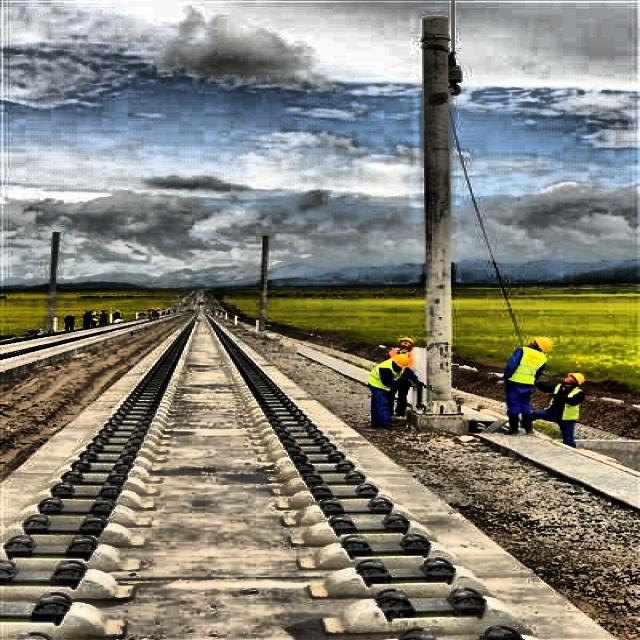helmet: (522, 332, 562, 357), (560, 368, 590, 390), (387, 351, 418, 372), (395, 336, 419, 350)
